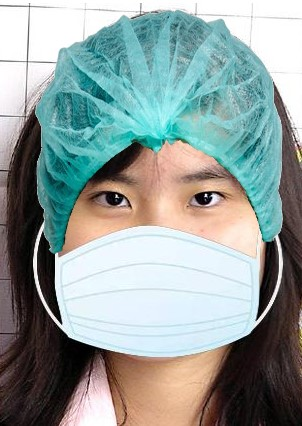with_mask_and_cap: (39, 12, 285, 356)
